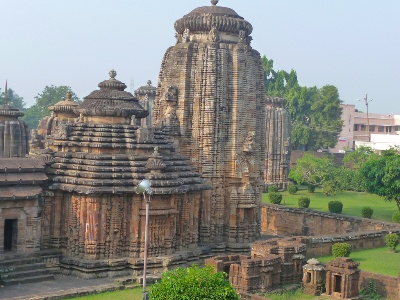amalaka: (167, 7, 261, 45)
gopuram: (146, 34, 285, 184)
